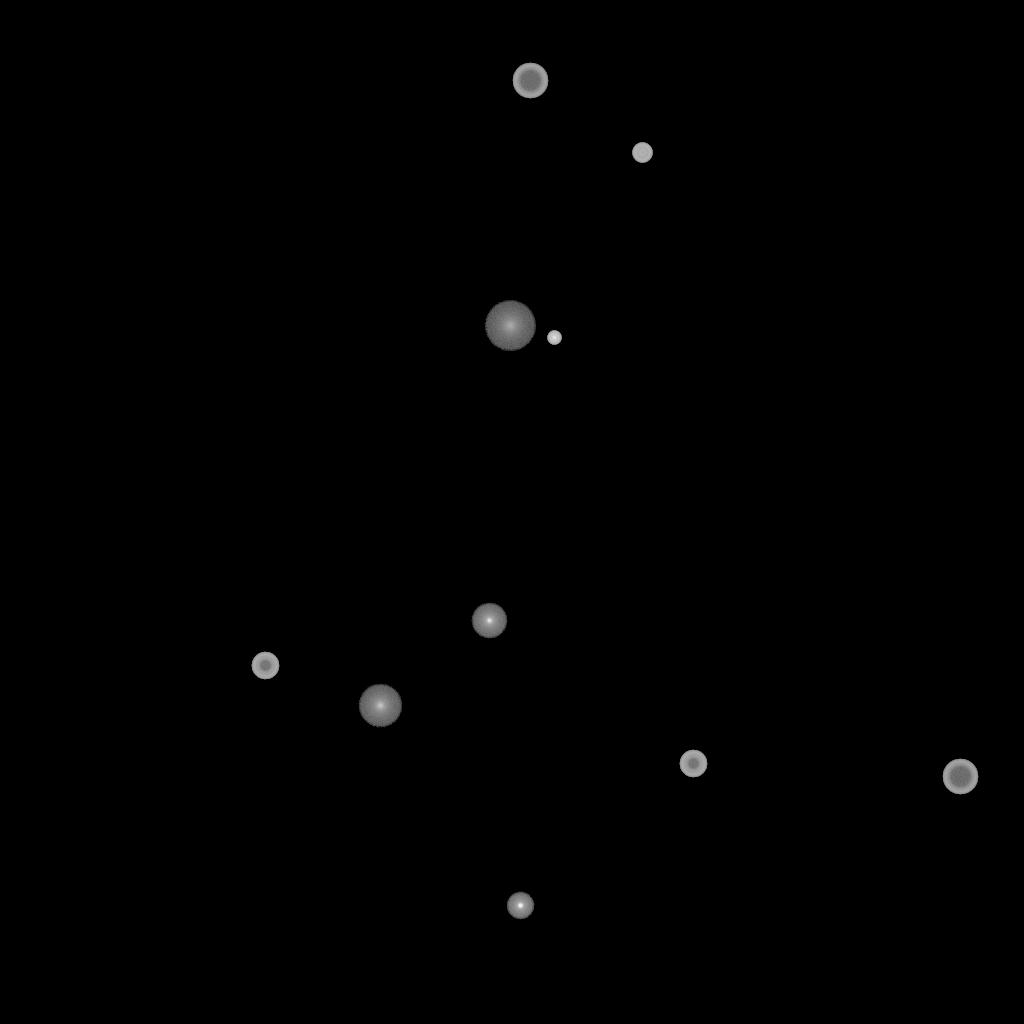depth:-10: (506, 892, 534, 920)
depth:-30: (547, 331, 561, 345)
depth:-40: (632, 143, 652, 163)
depth:-50: (679, 750, 707, 778), (251, 652, 279, 680)
depth:-60: (942, 759, 978, 795), (512, 63, 548, 99)
depth:0: (471, 603, 507, 639)
depth:10: (358, 684, 402, 728)
depth:20: (484, 301, 536, 351)
